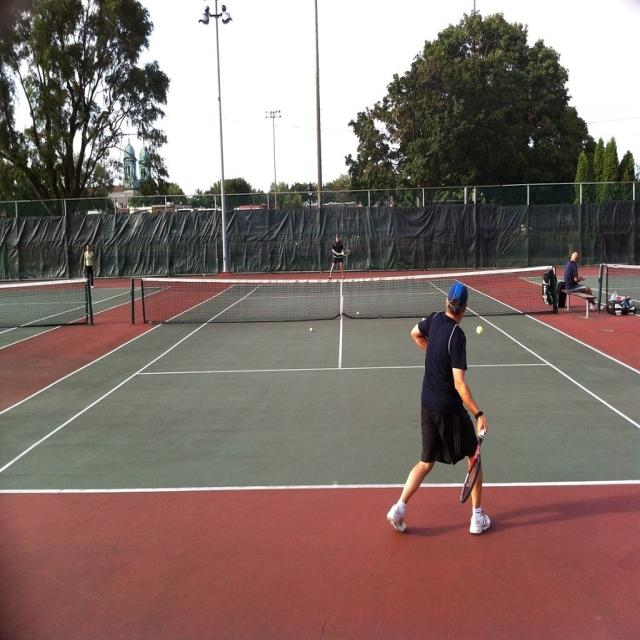ball: (475, 325, 484, 335), (309, 326, 314, 334), (356, 310, 360, 316)
